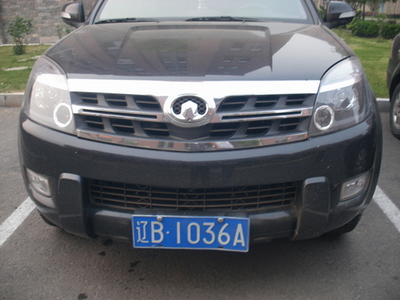plate_number: (131, 217, 249, 251)
